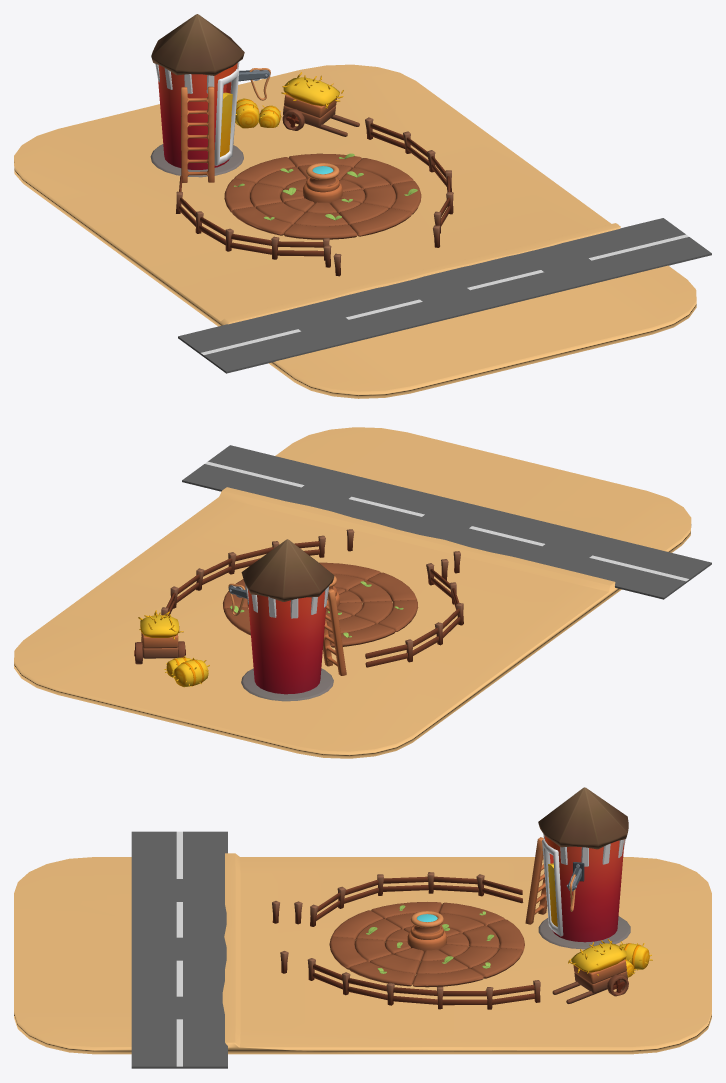
Rendered from Farm.fbx.
The picture shows the model from 3 angles, top to bottom: view 1: azimuth 30°, elevation 25°; view 2: azimuth 150°, elevation 25°; view 3: azimuth 270°, elevation 25°; orthographic projection.
Visible parts, largest first — view 1: Cube.036, Plane.001, Circle.001, Circle.002, Cube.062, Cube.081, Circle.003, Cube.083, Circle.104, Circle, Circle.105, Cylinder.069 (+12 smaller); view 2: Cube.036, Plane.001, Circle.001, Circle.002, Cube.062, Circle, Cube.081, Cylinder.074, Circle.102, Circle.103, Cube.083, Circle.104 (+5 smaller); view 3: Cube.036, Plane.001, Circle.001, Circle.002, Cube.081, Cube.083, Cube.062, Circle.003, Circle, Circle.107, Circle.106, Cylinder.069 (+23 smaller).
Boxes of the visible parts, x1,y1,x2,y2 form: Cube.036: [14, 64, 696, 398]; Plane.001: [178, 218, 711, 373]; Circle.001: [158, 63, 237, 169]; Circle.002: [151, 14, 244, 75]; Cube.062: [181, 86, 214, 182]; Cube.081: [283, 94, 359, 136]; Circle.003: [214, 69, 239, 165]; Cube.083: [283, 77, 339, 106]; Circle.104: [284, 224, 357, 239]; Circle: [150, 144, 243, 177]; Circle.105: [350, 208, 411, 236]; Cylinder.069: [306, 163, 339, 192]; Cube.036: [14, 427, 691, 758]; Plane.001: [182, 445, 711, 599]; Circle.001: [248, 590, 326, 694]; Circle.002: [241, 539, 334, 601]; Cube.062: [323, 589, 346, 675]; Circle: [241, 668, 333, 701]; Cube.081: [141, 632, 178, 658]; Cylinder.074: [172, 657, 209, 687]; Circle.102: [329, 624, 395, 647]; Circle.103: [378, 600, 418, 632]; Cube.083: [140, 615, 179, 637]; Circle.104: [367, 572, 416, 602]; Cube.036: [14, 853, 711, 1054]; Plane.001: [131, 831, 227, 1068]; Circle.001: [544, 836, 624, 942]; Circle.002: [538, 787, 628, 849]; Cube.081: [552, 959, 627, 1003]; Cube.083: [571, 943, 626, 972]; Cube.062: [525, 837, 547, 924]; Circle.003: [542, 839, 563, 936]; Circle: [538, 916, 630, 949]; Circle.107: [412, 968, 483, 987]; Circle.106: [349, 961, 415, 986]; Cylinder.069: [410, 911, 443, 939].
Size of the model in its own units: 11.56 by 3.51 by 14.51.
